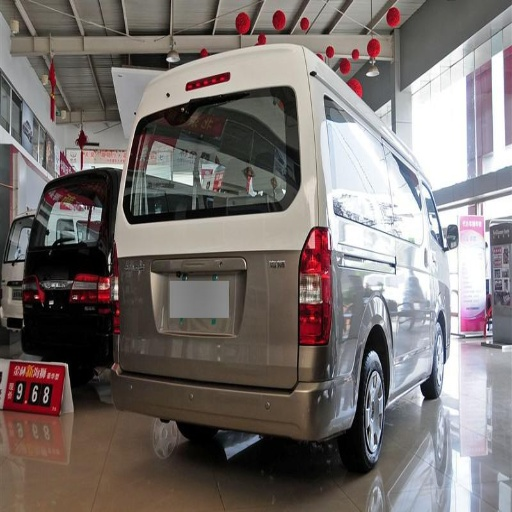back_bumper: (118, 347, 358, 439)
back_glass: (149, 91, 296, 200)
tailgate: (122, 171, 195, 223)
trunk: (119, 202, 310, 388), (328, 265, 428, 369)
